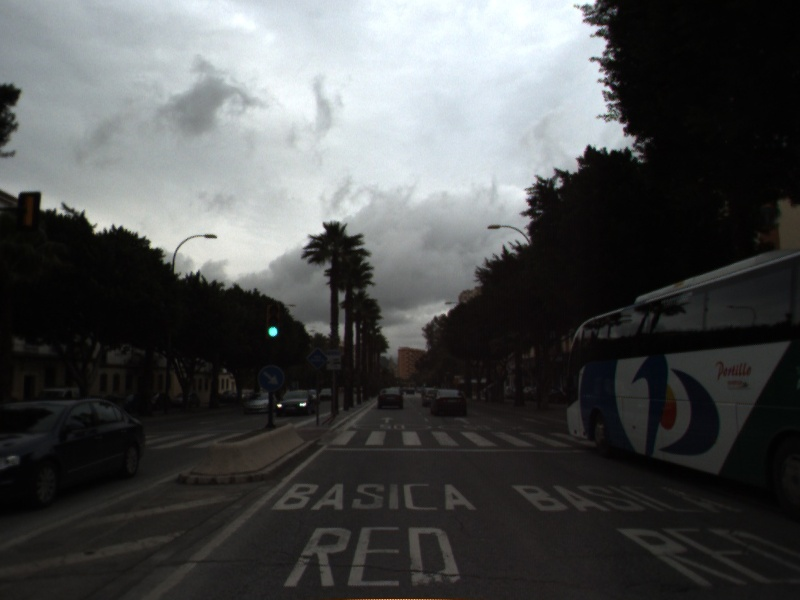STRAIGHT: (452, 415, 473, 426), (378, 415, 397, 425)
